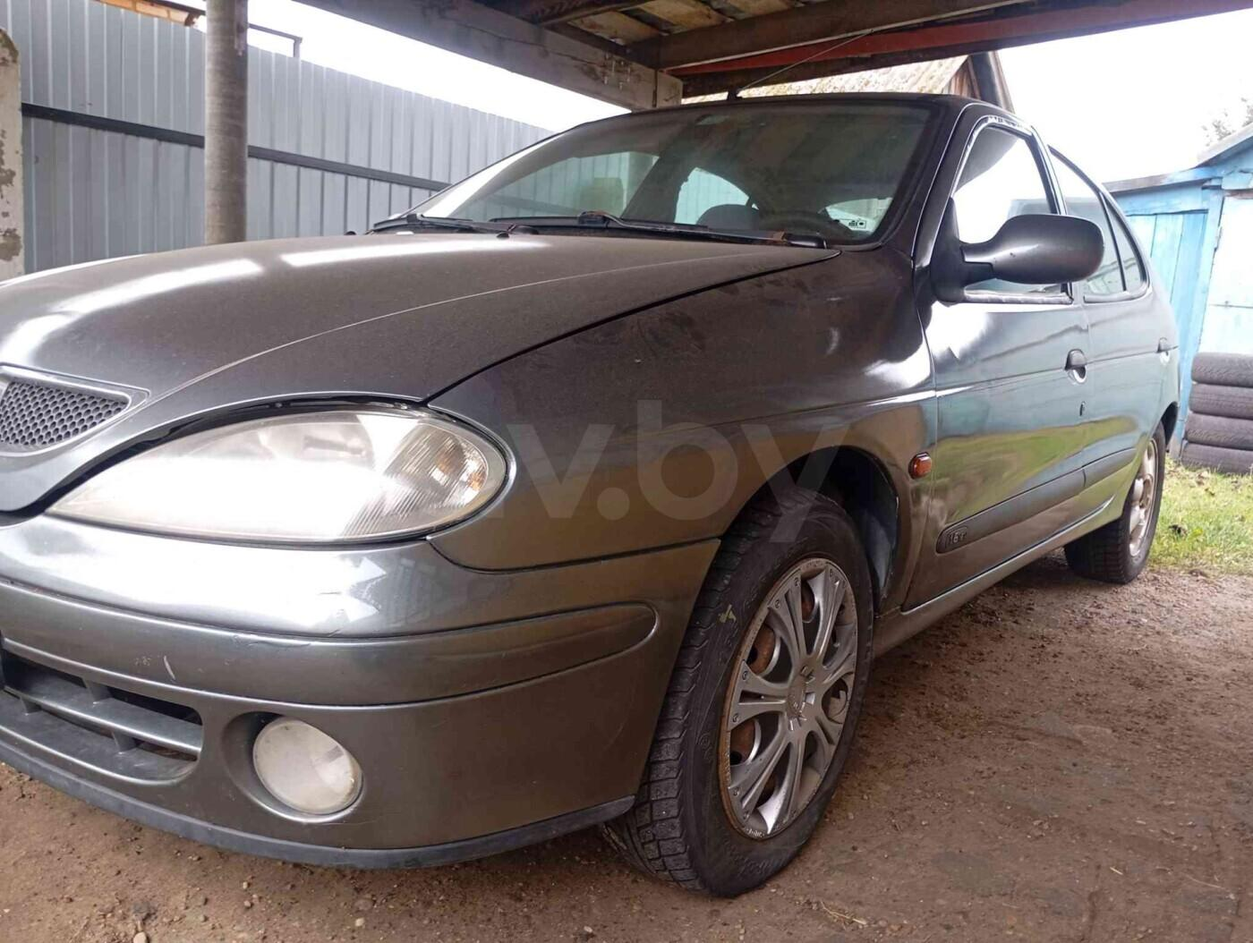Megane_1999-2003: (0, 81, 1193, 896)
